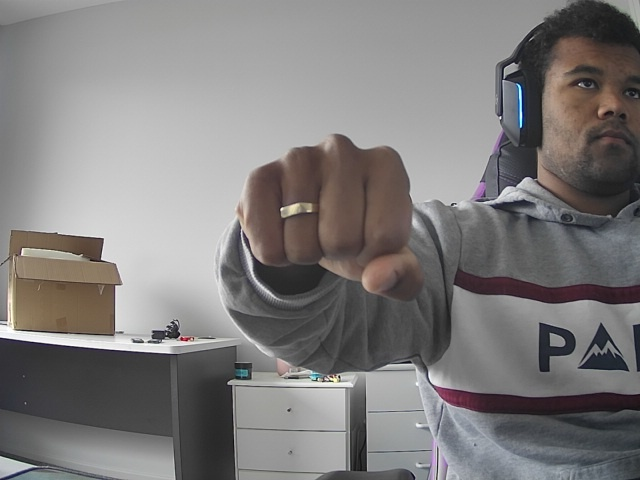Yes: (232, 117, 432, 311)
